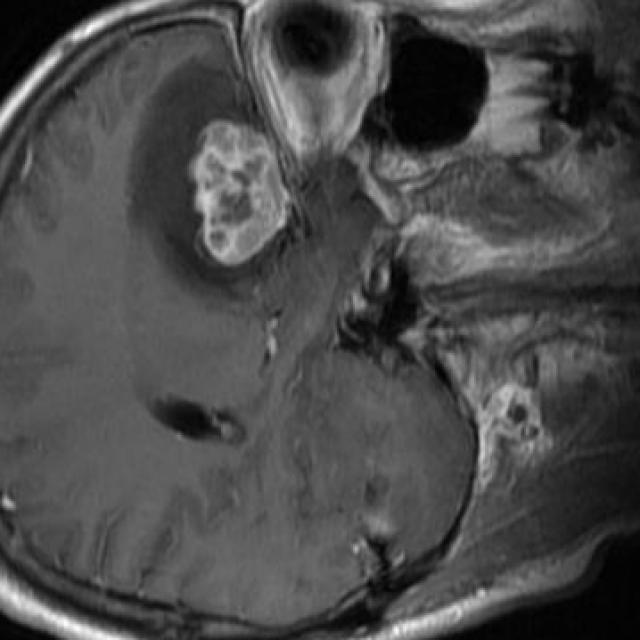meningioma: (194, 121, 289, 267)
